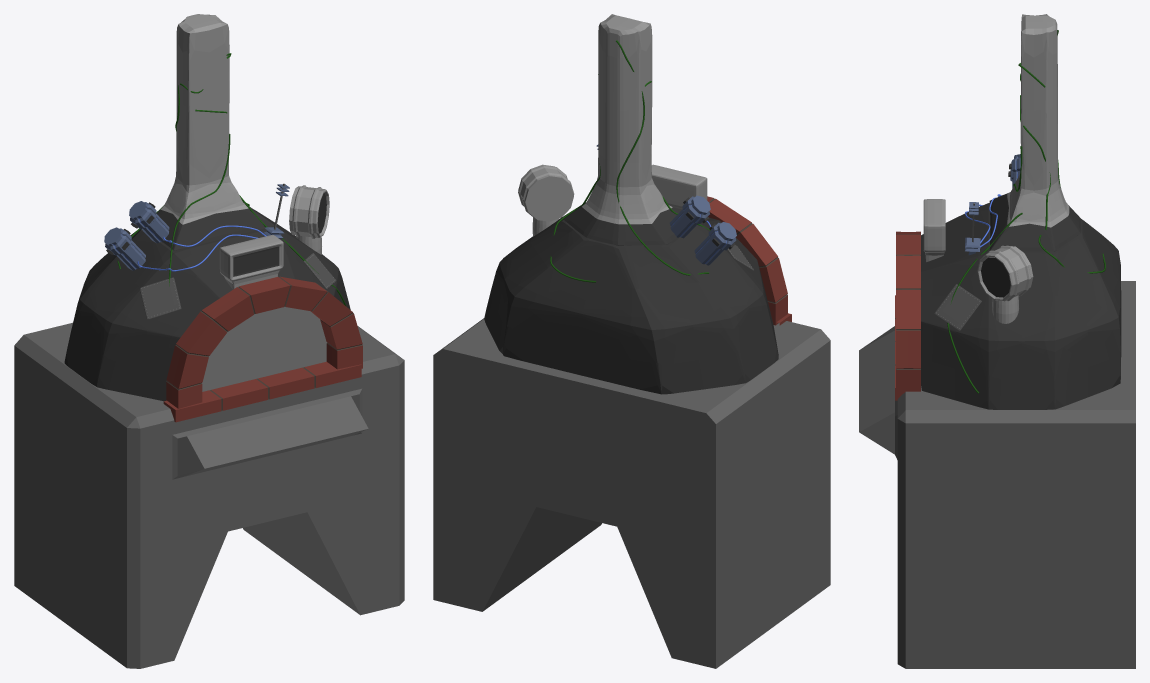
File: PizzaOven1.fbx
3 renders of one model, left to right at view 1: azimuth 30°, elevation 25°; view 2: azimuth 150°, elevation 25°; view 3: azimuth 270°, elevation 25°, orthographic. The views are drawn at different scales.
Visible parts, largest first — view 1: Base, Pizza Oven, Bricks, Screen, Gague, Gizmo 1, Gizmo 2, Vines; view 2: Base, Pizza Oven, Bricks, Gague, Screen, Gizmo 1, Gizmo 2, Vines; view 3: Base, Pizza Oven, Bricks, Gague, Screen, Vines, Gizmo 3.
Part boxes in pixels (box(x1,y1,x2,y2)): Base: box(14, 306, 404, 668); Pizza Oven: box(64, 14, 350, 401); Bricks: box(163, 276, 362, 422); Screen: box(219, 235, 283, 289); Gague: box(289, 185, 329, 254); Gizmo 1: box(104, 227, 145, 270); Gizmo 2: box(129, 201, 169, 243); Vines: box(117, 53, 346, 306); Base: box(433, 318, 830, 668); Pizza Oven: box(484, 14, 778, 394); Bricks: box(707, 196, 791, 325); Gague: box(518, 164, 574, 236); Screen: box(651, 164, 707, 210); Gizmo 1: box(694, 222, 736, 265); Gizmo 2: box(669, 195, 710, 238); Vines: box(550, 40, 710, 282); Base: box(859, 281, 1135, 668); Pizza Oven: box(920, 14, 1121, 409); Bricks: box(895, 231, 920, 400); Gague: box(977, 245, 1033, 323); Screen: box(923, 199, 945, 261); Vines: box(947, 30, 1105, 393); Gizmo 3: box(965, 202, 980, 255).
Size of the model in its own units: 234 by 455 by 198.
